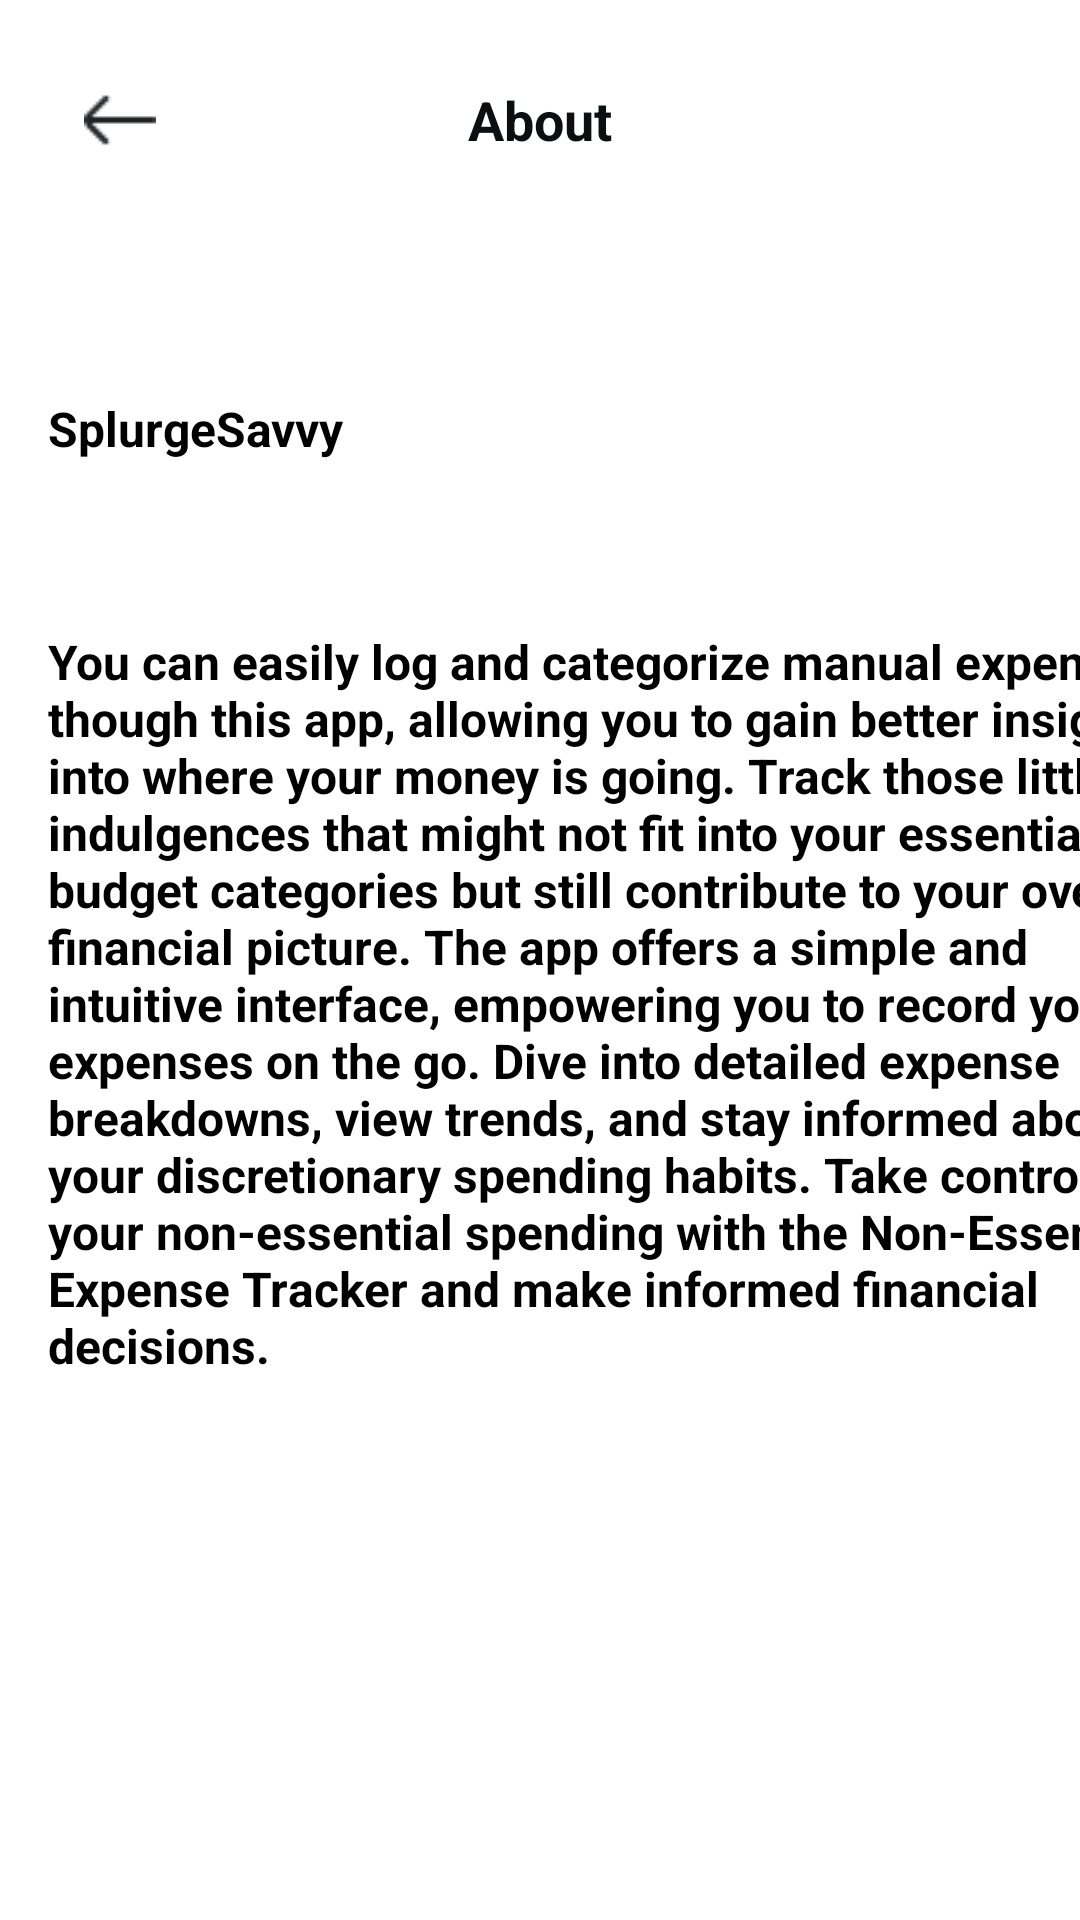

Screen size 1080w x 1920h. Icon name, then its center in pixels as (x=x, y=y):
back arrow: (x=120, y=120)
